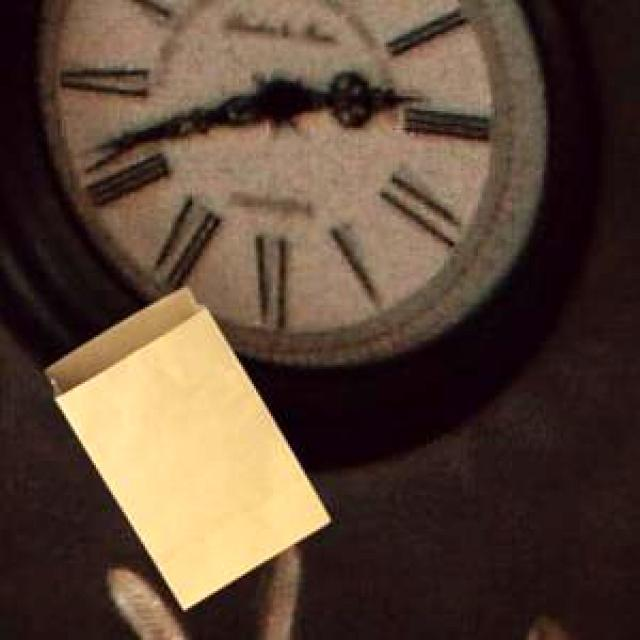Paper_Bag: (41, 285, 328, 607)
